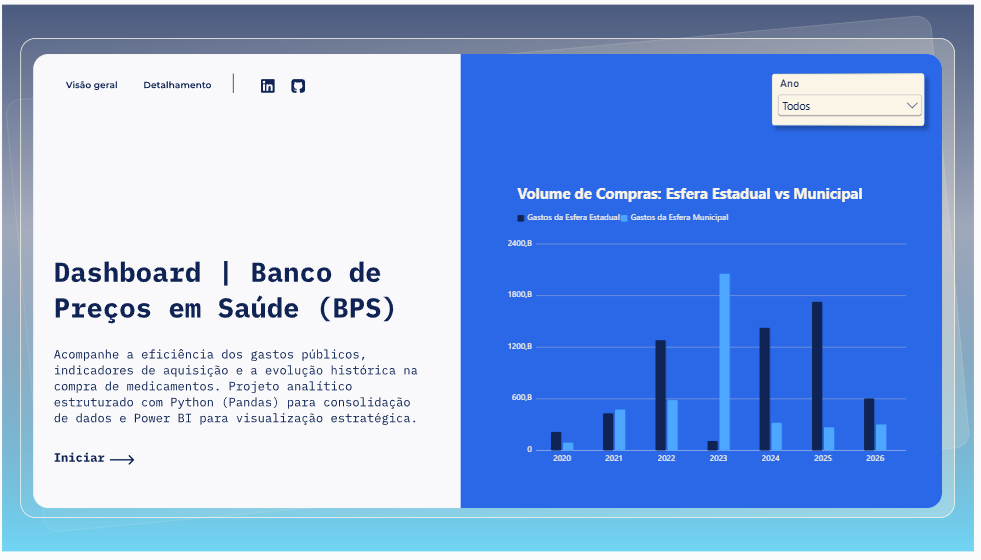

Layout of this report page (visuals, bound fields, positions):
{"tool":"powerbi","page":{"name":"Página 1","canvas":[1920,1080],"ordinal":0},"visuals":[{"type":"actionButton","box":[358,397.3,30.9,30.9],"z":0},{"type":"actionButton","box":[652.7,271.8,30.9,30.9],"z":1000},{"type":"actionButton","box":[693.6,271.8,30.9,30.9],"z":2000},{"type":"actionButton","box":[381,759,140,31],"z":3000},{"type":"htmlContent443BE3AD55E043BF878BED274D3A6855","fields":{"content":["00 Medidas.07 GraficoAnimado_Esferas"]},"box":[948.3,383.3,587.4,439.9],"z":3001},{"type":"slicer","fields":{"Values":["BPS_20_26_ChristianWislocki.ano_compra"]},"box":[1336,273,200,59],"z":3002}]}

Visuals, with their boxes in screenshot pixels (x1, y1, x2, y2), scaled from the page's 1920x1080 canvas onto the 981x560 screenshot:
actionButton: x1=183 y1=206 x2=199 y2=222
actionButton: x1=333 y1=141 x2=349 y2=157
actionButton: x1=354 y1=141 x2=370 y2=157
actionButton: x1=195 y1=394 x2=266 y2=410
htmlContent443BE3AD55E043BF878BED274D3A6855 - 00 Medidas.07 GraficoAnimado_Esferas: x1=485 y1=199 x2=785 y2=427
slicer - BPS_20_26_ChristianWislocki.ano_compra: x1=683 y1=142 x2=785 y2=172
